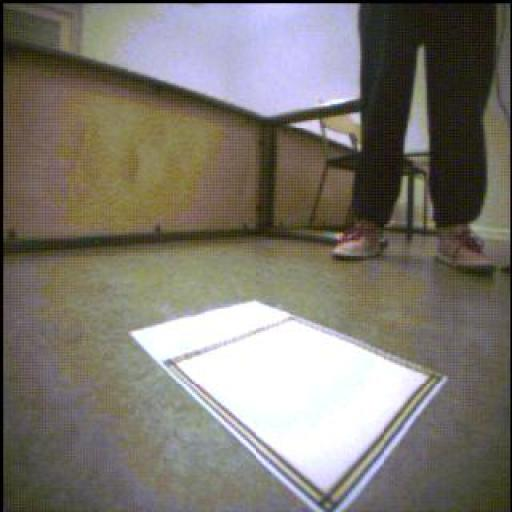Pad: (133, 302, 448, 512)
